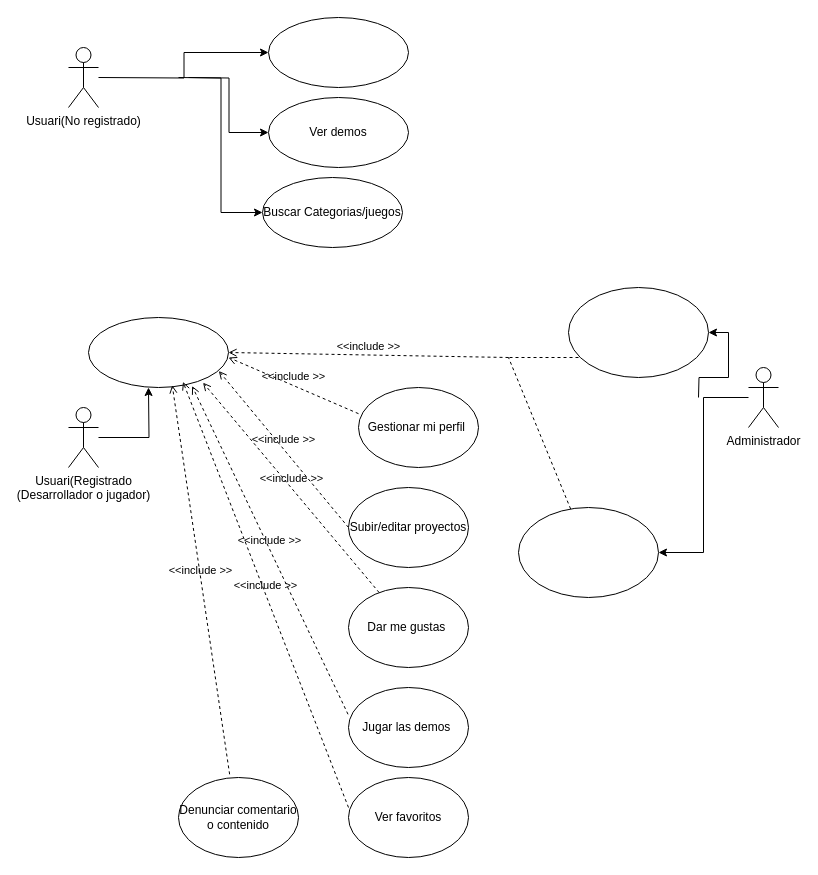
This 818x875 diagram has some shape labels left out. Each missing label, with the centre of its shape:
Gestionar Usuarios: point 588,552
iniciar Session: point 158,352
Moderar contenido (proyectos/comentarios): point 638,332
Registrarse: point 338,52
